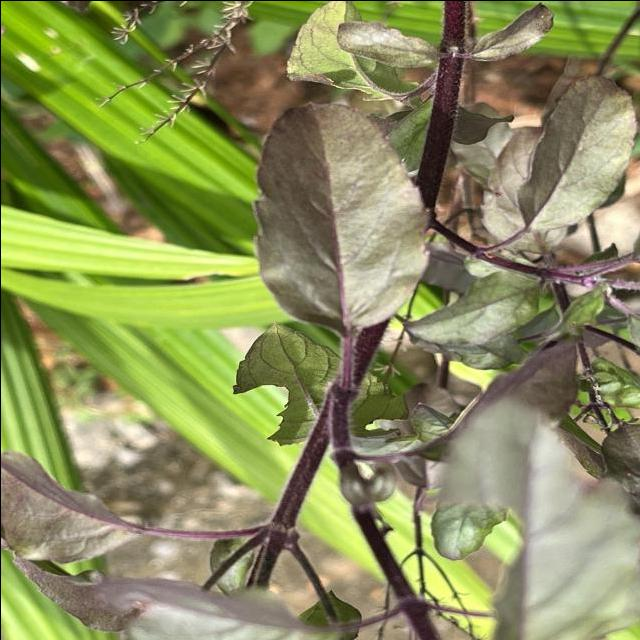Ocimum tenuiflorum: (247, 96, 430, 330), (514, 72, 638, 235)
